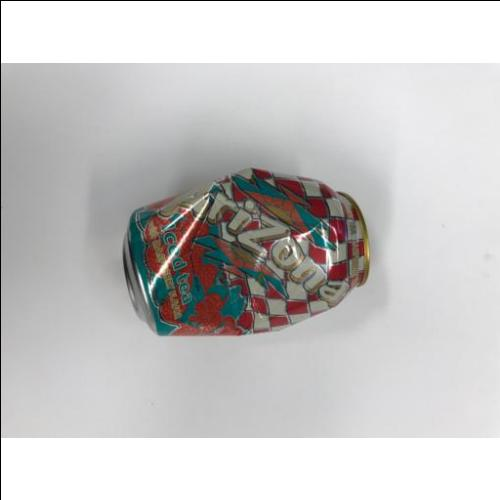metal: (122, 166, 367, 337)
